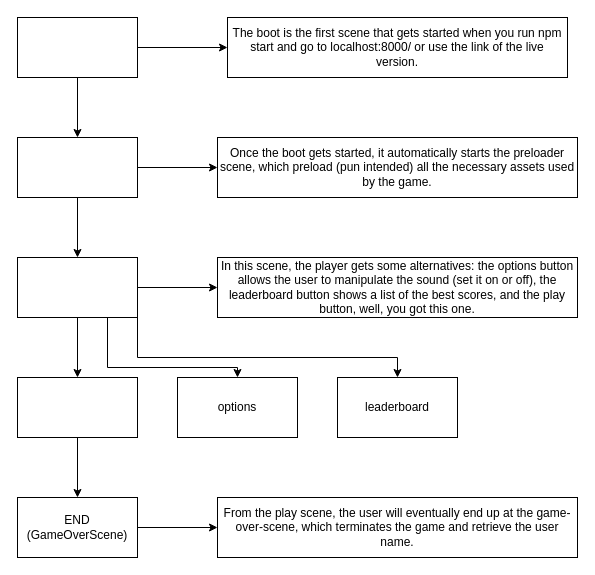
Image size: 595x575. Some labels were removed from this diagram. Here are the shapes that lost their labels. From the top down, the centre of each, then its label:
At pixel 77 47: "Boot".
At pixel 77 167: "Preloader".
At pixel 77 287: "Title".
At pixel 77 407: "Play".
